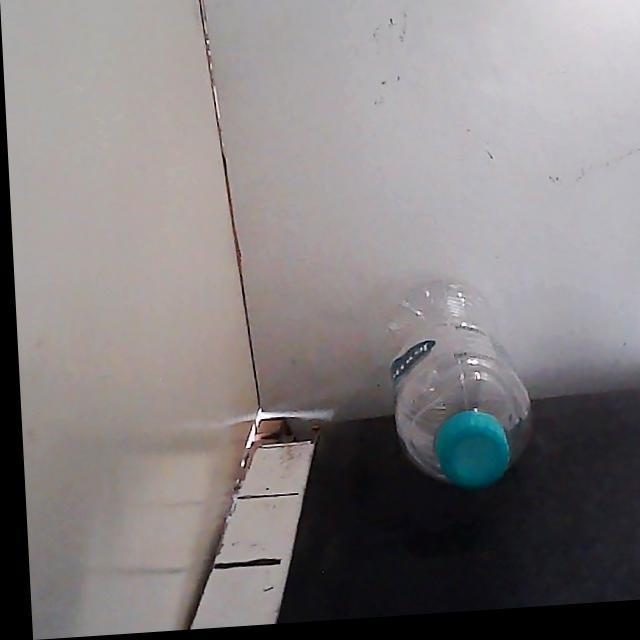plastico: (389, 279, 531, 488)
